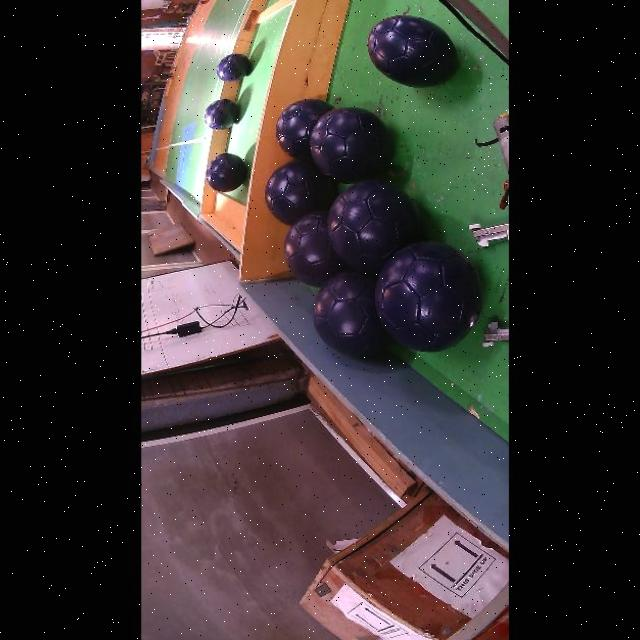B: (375, 242, 480, 352), (327, 180, 420, 273), (367, 15, 456, 88), (309, 107, 392, 184), (313, 272, 388, 357), (283, 210, 347, 287), (264, 162, 336, 226), (276, 99, 331, 162), (205, 153, 246, 192), (203, 99, 239, 130), (216, 53, 250, 81)
